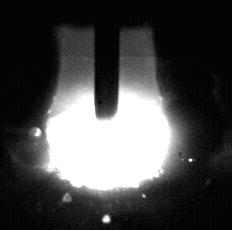arame: (95, 0, 120, 120)
poca: (45, 0, 172, 230)
